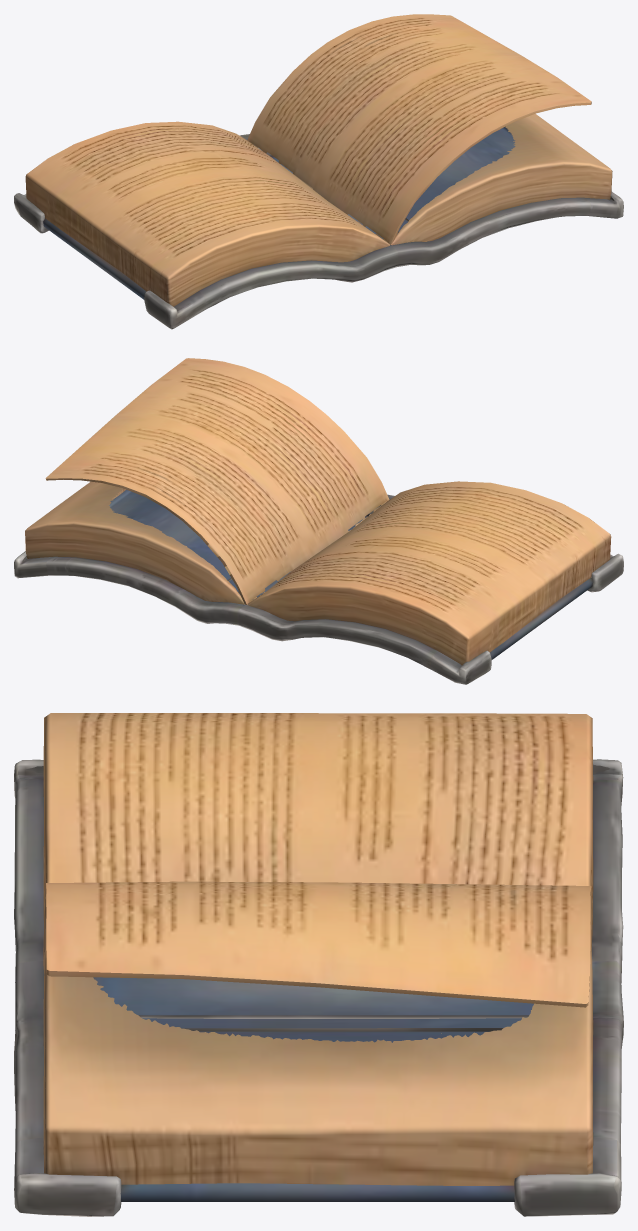
3 renders of one model, top to bottom at view 1: azimuth 30°, elevation 25°; view 2: azimuth 150°, elevation 25°; view 3: azimuth 270°, elevation 25°, orthographic. The views are drawn at different scales.
Parts seen in each view (by area): view 1: SM_Journal_Book_01_Open_LOD0; view 2: SM_Journal_Book_01_Open_LOD0; view 3: SM_Journal_Book_01_Open_LOD0.
Part boxes in pixels (x1=…): SM_Journal_Book_01_Open_LOD0: x1=14, y1=14, x2=623, y2=329; SM_Journal_Book_01_Open_LOD0: x1=14, y1=358, x2=623, y2=684; SM_Journal_Book_01_Open_LOD0: x1=14, y1=713, x2=623, y2=1216.
Size of the model in its own units: 0.6256 by 0.1631 by 0.3802.
1 material, 1 textured.
